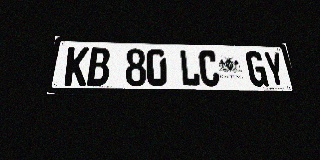0: (146, 49, 167, 86)
8: (125, 49, 146, 86)
B: (87, 48, 110, 86)
C: (198, 50, 221, 86)
G: (245, 51, 269, 86)
K: (64, 47, 89, 86)
L: (179, 50, 201, 86)
Y: (263, 52, 288, 86)
